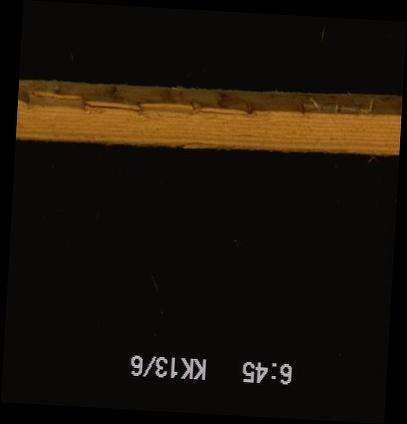wave: (17, 94, 399, 150)
